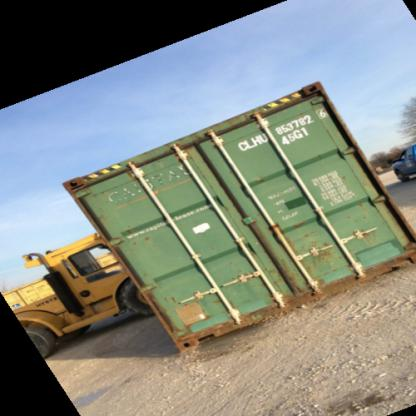Damage: (302, 241, 344, 282), (266, 258, 303, 298), (176, 300, 210, 333), (107, 178, 143, 208), (143, 164, 191, 185), (348, 190, 370, 217), (125, 233, 155, 249), (354, 226, 376, 245)
